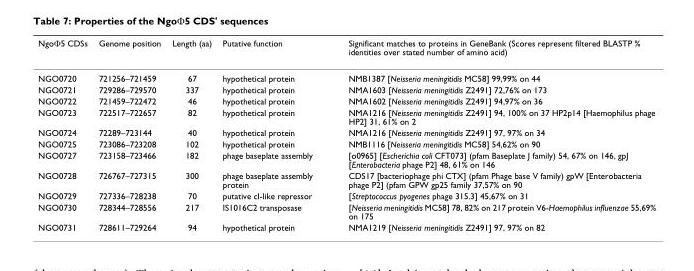table: (37, 36, 655, 231)
table column: (329, 36, 655, 231), (216, 36, 329, 231), (92, 36, 165, 231), (37, 36, 92, 231), (165, 36, 216, 231)
table column header: (37, 36, 655, 64)
table row: (37, 36, 655, 64), (37, 200, 655, 221), (37, 106, 655, 126), (37, 149, 655, 169), (37, 169, 655, 189), (37, 64, 655, 83), (37, 94, 655, 106), (37, 137, 655, 149), (37, 83, 655, 94), (37, 126, 655, 137), (37, 189, 655, 200), (37, 221, 655, 231)
